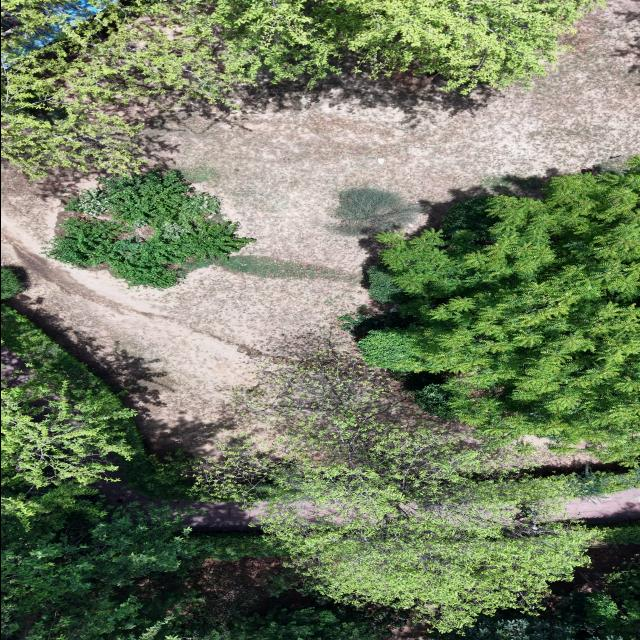DRY_AREA: (1, 0, 639, 456), (1, 170, 310, 455), (1, 170, 254, 455), (93, 472, 263, 531), (95, 474, 267, 531), (95, 479, 268, 531), (96, 481, 264, 531), (98, 482, 267, 531), (191, 557, 285, 617), (563, 543, 639, 593), (543, 488, 639, 525), (556, 488, 639, 524), (184, 503, 263, 531), (1, 346, 34, 386)
PATHWAYS: (96, 481, 266, 530), (98, 482, 266, 531)
VEGETATION_TREE: (1, 159, 639, 639), (1, 306, 582, 639), (1, 307, 382, 639), (200, 355, 638, 630), (1, 0, 600, 176), (1, 307, 281, 639), (352, 158, 639, 462), (1, 499, 385, 639), (4, 514, 396, 639), (1, 0, 252, 176), (1, 306, 194, 517), (1, 499, 281, 639), (267, 512, 591, 630), (1, 306, 142, 522), (271, 0, 601, 91), (45, 171, 254, 288), (138, 559, 404, 639), (1, 371, 136, 512), (404, 558, 639, 639), (421, 559, 639, 639), (185, 561, 406, 639), (187, 558, 394, 639), (466, 564, 639, 639), (196, 608, 382, 639), (329, 187, 421, 235), (218, 256, 353, 280), (338, 312, 415, 339), (367, 265, 408, 302), (410, 383, 451, 419), (1, 268, 24, 299)
